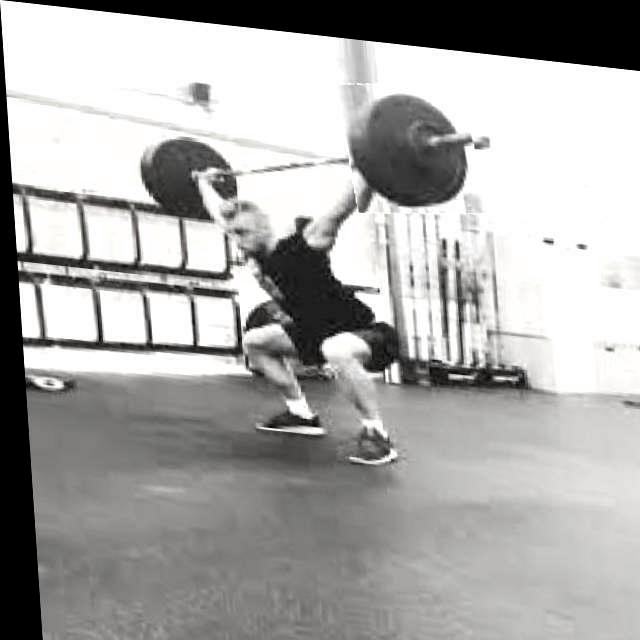barbell: (340, 66, 480, 212)
